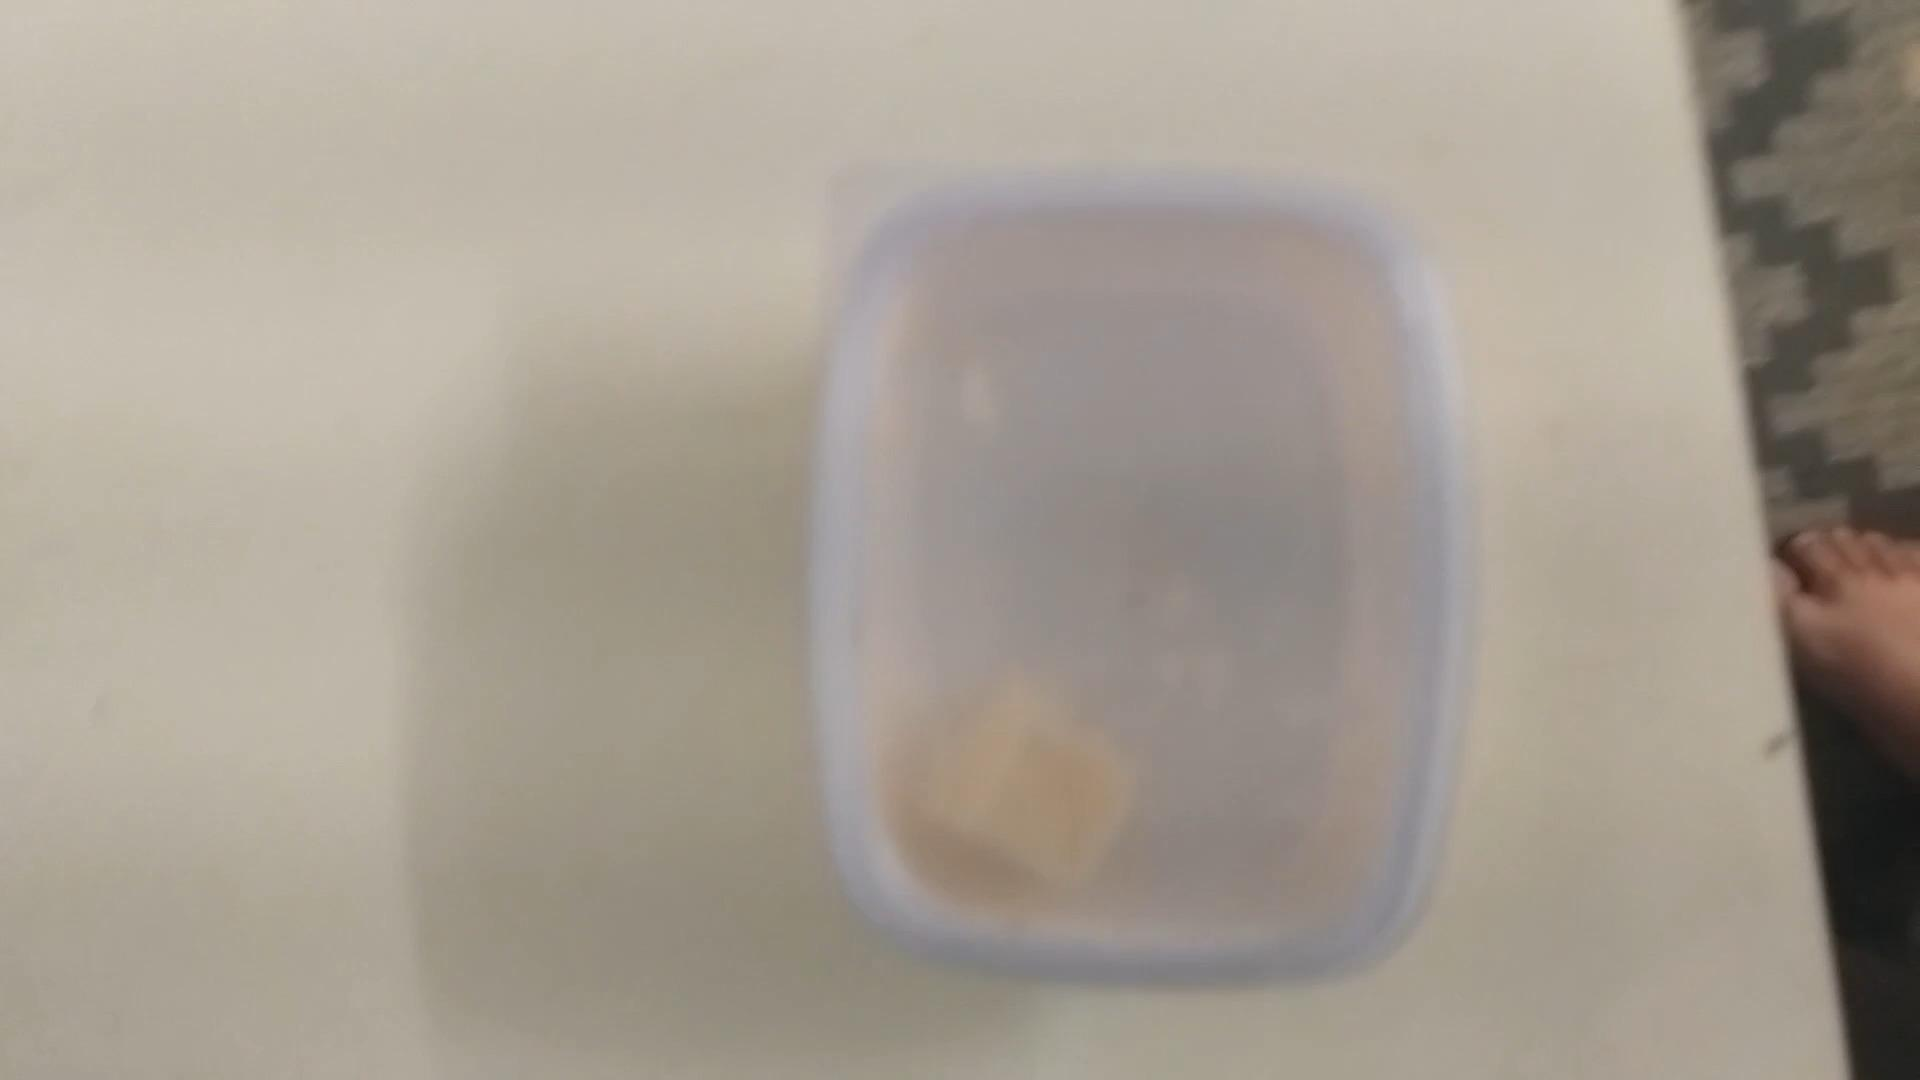butter: (808, 170, 1455, 990)
